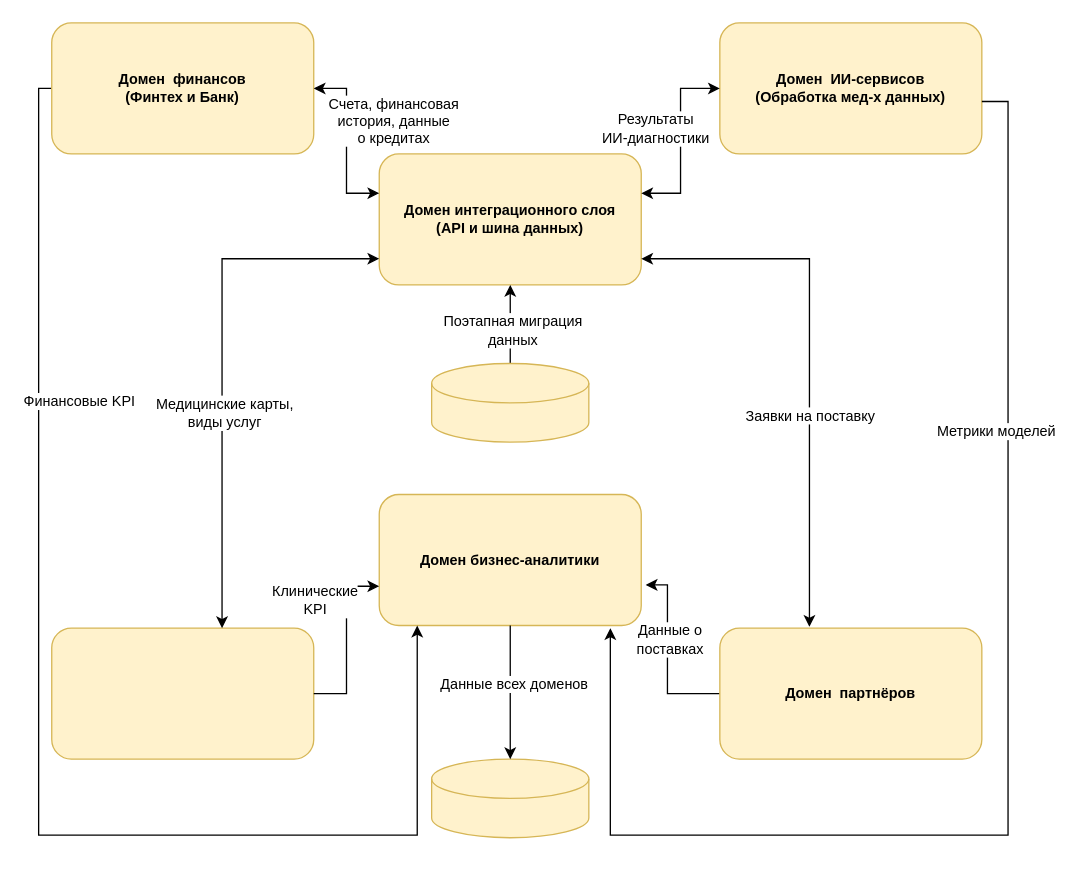
Some shapes in this 1077 by 869 pixel diagram are drawn without their labels. The shapes that lost their labels are listed below. From the top down, each one's centre as x and y in pixels, then its label:
At pixel 509 402: "Legacy DWH".
At pixel 182 693: "Домен клиник (Медицинские услуги)".
At pixel 509 798: "Витрина данных Data Lake".
